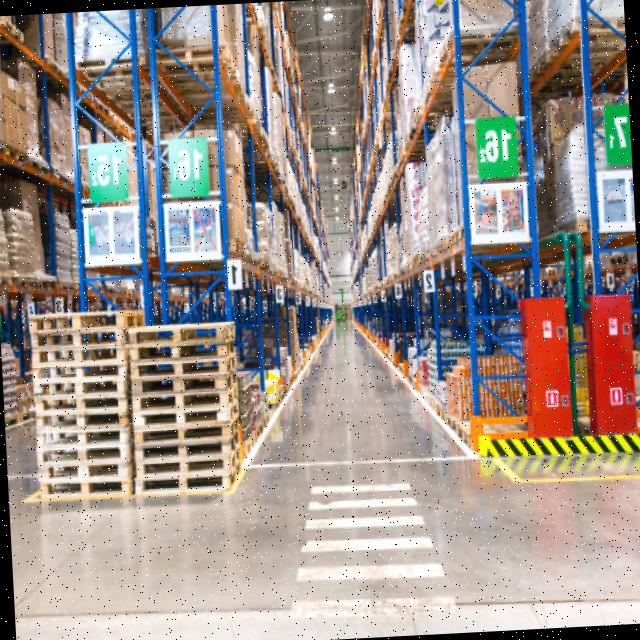Wooden-Pallets: (134, 438, 246, 484), (128, 318, 239, 349), (132, 400, 245, 430), (128, 350, 240, 380), (38, 472, 132, 501), (27, 359, 128, 384), (28, 308, 122, 334), (36, 437, 132, 462), (32, 392, 128, 414)
